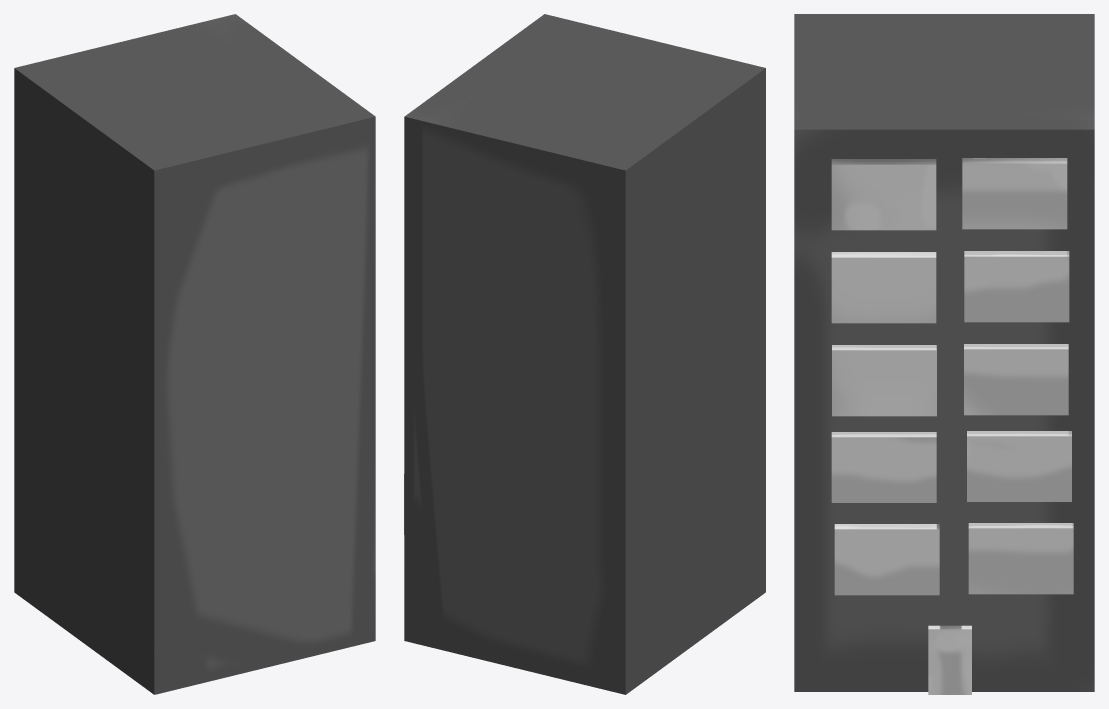
File: predio2texturacinza.fbx
3 views of the same model, side by side, from view 1: azimuth 30°, elevation 25°; view 2: azimuth 150°, elevation 25°; view 3: azimuth 270°, elevation 25° (orthographic). The views are drawn at different scales.
Parts seen in each view (by area): view 1: Cube.011; view 2: Cube.011; view 3: Cube.011.
Part boxes in pixels (box(x1,y1,x2,y2)): Cube.011: box(14, 14, 375, 694); Cube.011: box(404, 14, 765, 694); Cube.011: box(794, 14, 1094, 694).
Size of the model in its own units: 611 by 1321 by 640.
